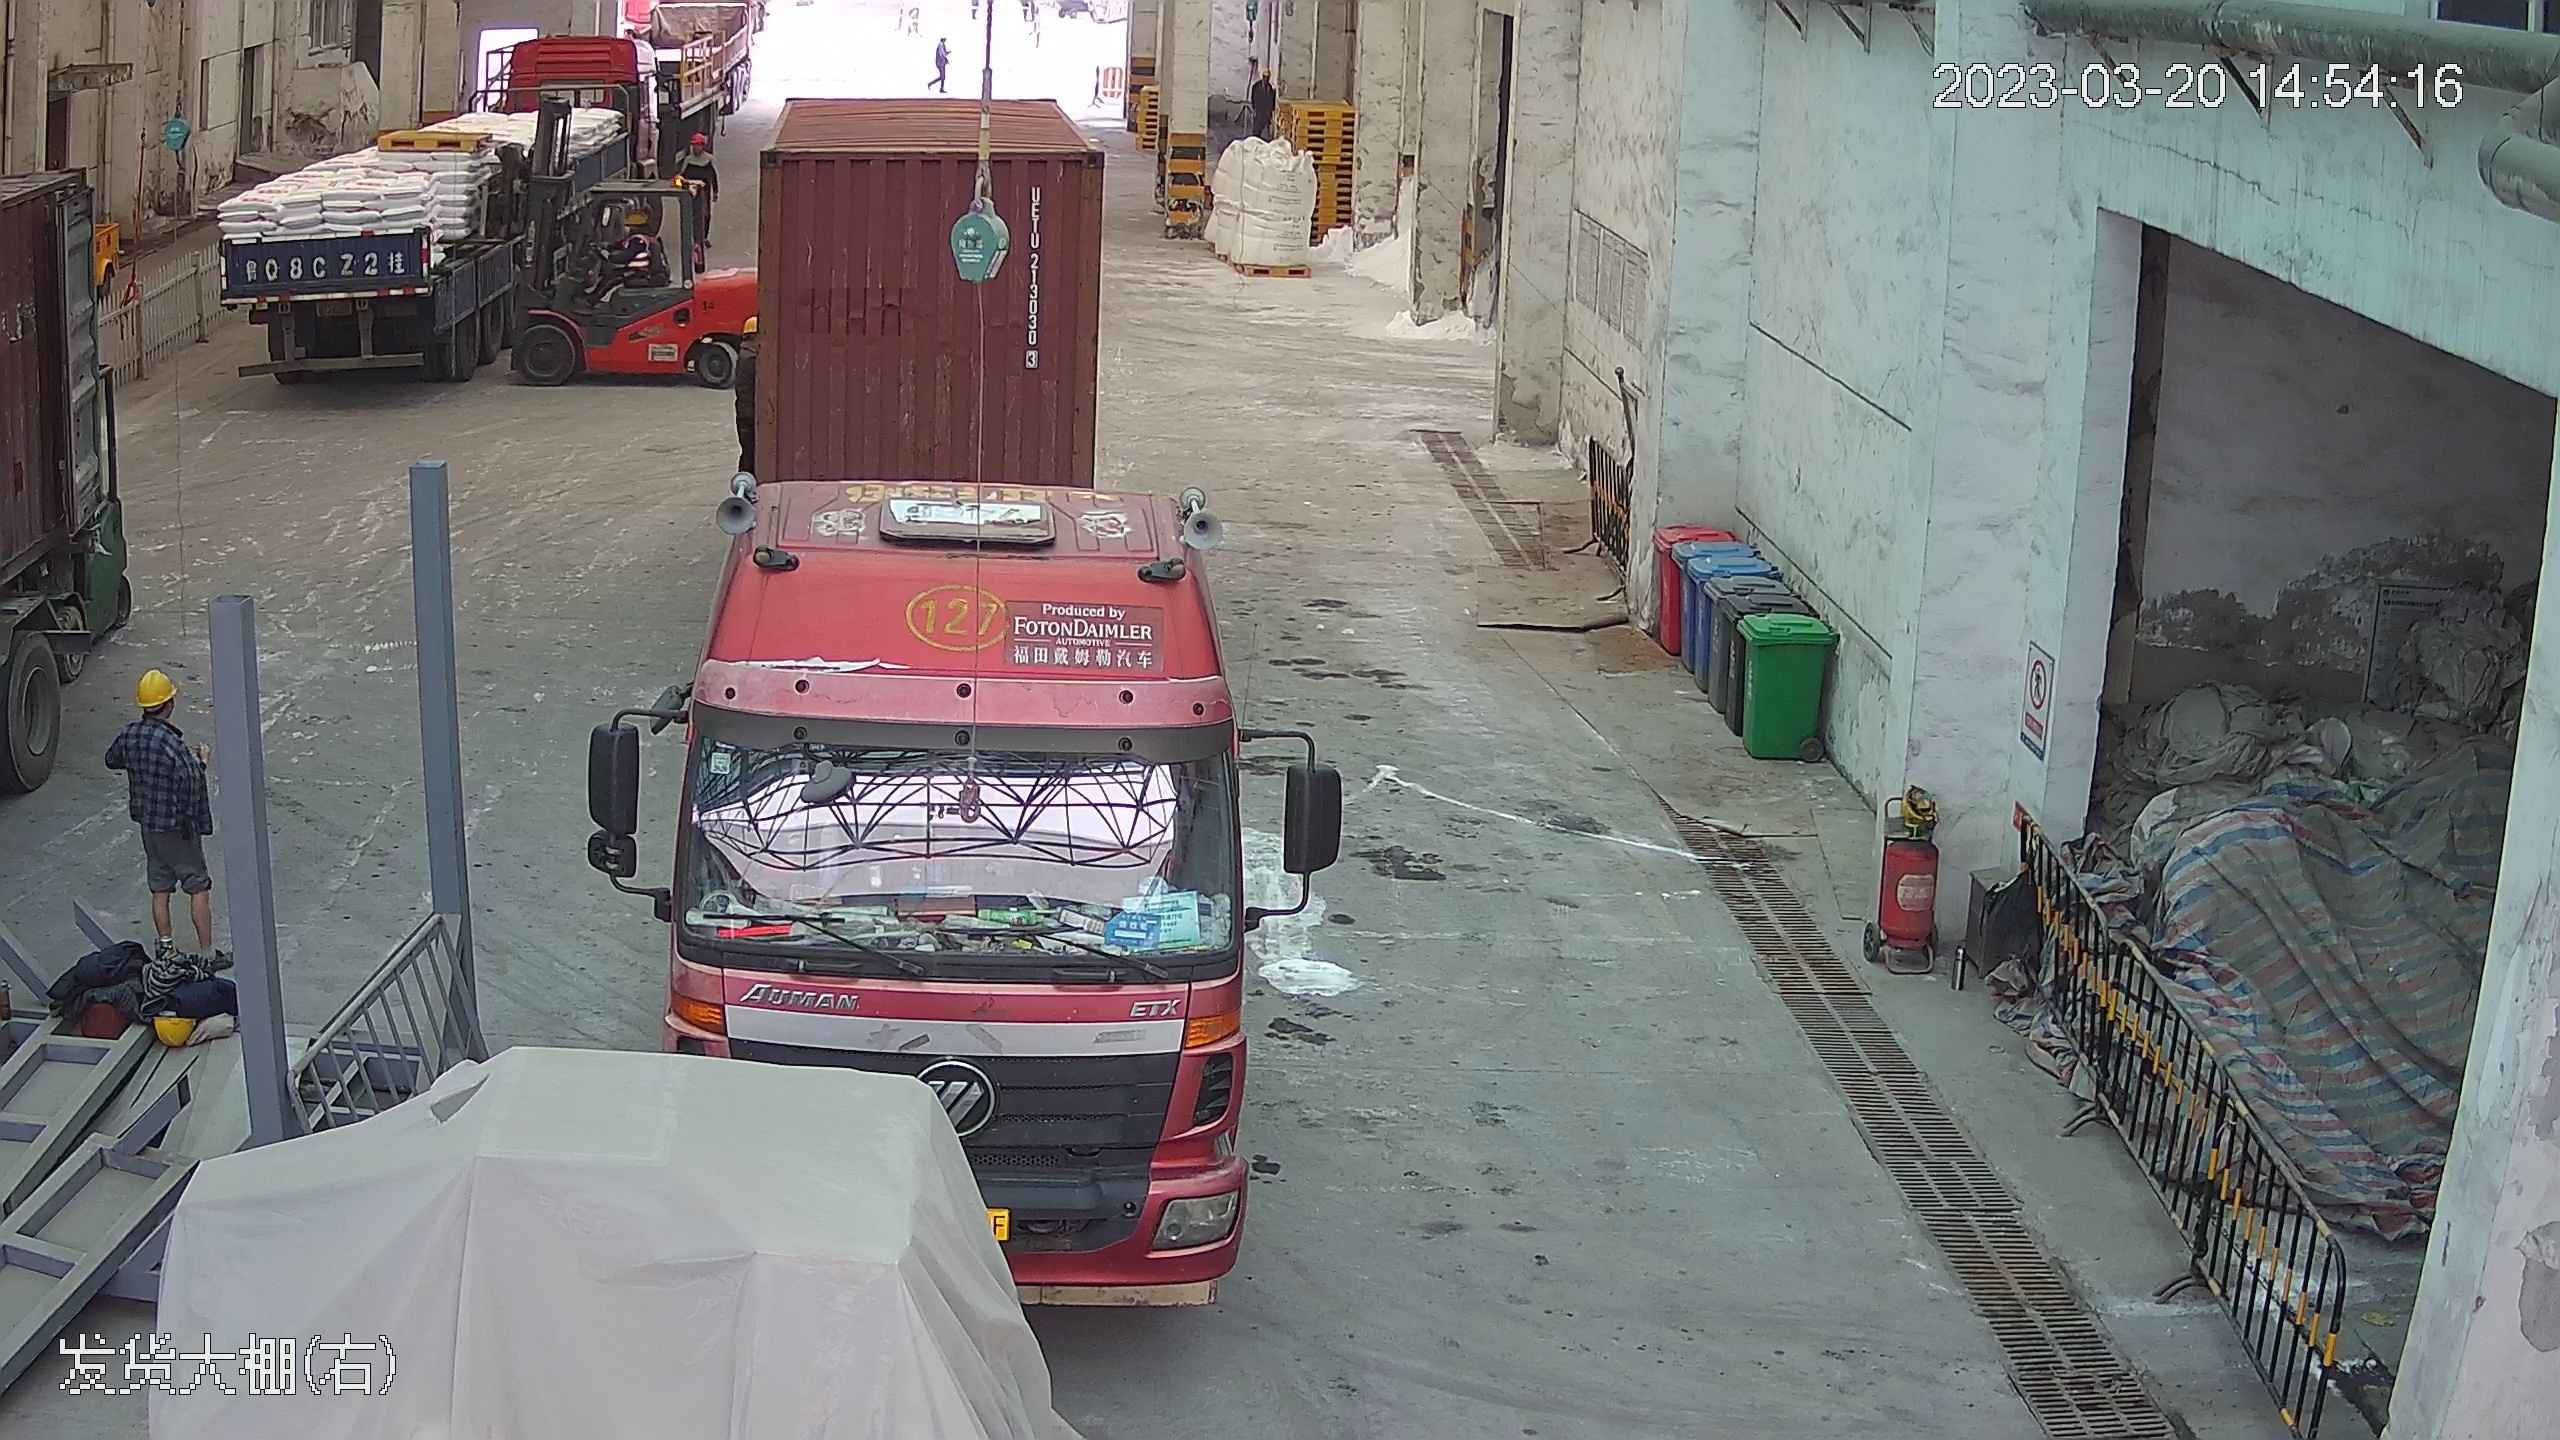head: (113, 668, 197, 754), (616, 204, 660, 251)
helmet: (133, 667, 178, 706), (624, 203, 654, 227)
people: (106, 662, 214, 949), (585, 202, 664, 312)
truck: (643, 28, 1269, 1302), (208, 18, 529, 397)
